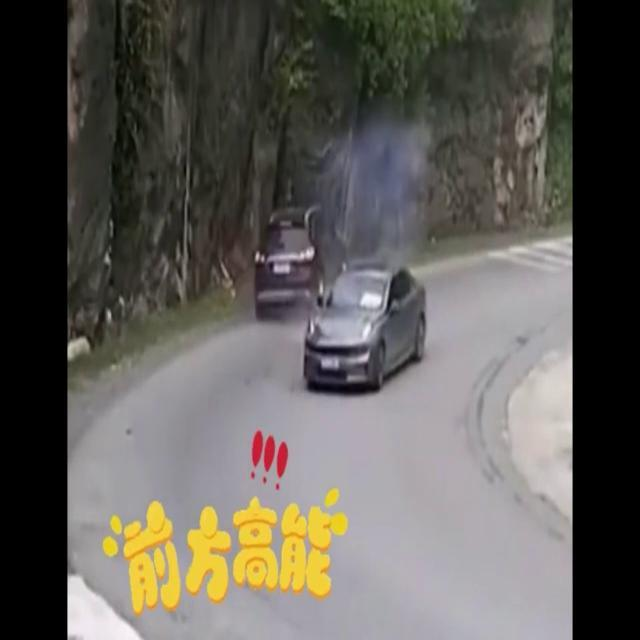normal: (277, 247, 457, 413)
single accident: (222, 128, 368, 322)
